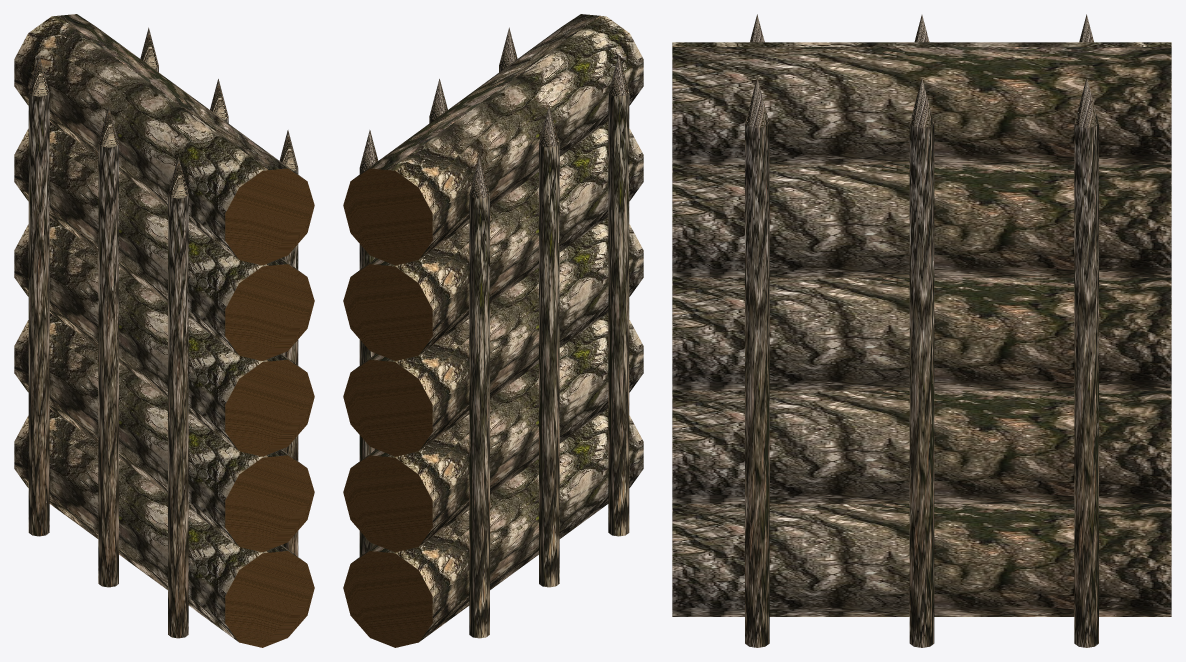
File: StrucWall.fbx
The picture shows the model from 3 angles, left to right: view 1: azimuth 30°, elevation 25°; view 2: azimuth 150°, elevation 25°; view 3: azimuth 270°, elevation 25°; orthographic projection. The views are drawn at different scales.
Parts seen in each view (by area): view 1: Log005, Log004, Log001, Log002, Log003, Post003, Post002, Post001, Side005, Side004, Side003, Side002 (+2 smaller); view 2: Log005, Log004, Log001, Log002, Log003, Post001, Post002, Post003, Side005, Side004, Side003, Side002 (+2 smaller); view 3: Log005, Log002, Log003, Log004, Log001, Post005, Post004, Post006.
Boxes of the visible parts, x1,y1,x2,y2 form: Log005: [14, 14, 304, 259]; Log004: [14, 121, 303, 354]; Log001: [14, 408, 305, 641]; Log002: [14, 313, 303, 546]; Log003: [14, 217, 304, 450]; Post003: [28, 54, 49, 536]; Post002: [98, 105, 118, 587]; Post001: [168, 156, 188, 638]; Side005: [225, 168, 314, 265]; Side004: [225, 264, 314, 360]; Side003: [225, 359, 314, 456]; Side002: [225, 455, 314, 552]; Log005: [353, 14, 643, 259]; Log004: [354, 121, 643, 354]; Log001: [352, 408, 643, 641]; Log002: [354, 313, 643, 546]; Log003: [353, 217, 643, 450]; Post001: [608, 54, 629, 536]; Post002: [539, 105, 559, 587]; Post003: [469, 156, 489, 638]; Side005: [343, 168, 432, 265]; Side004: [343, 264, 432, 360]; Side003: [343, 359, 432, 456]; Side002: [343, 455, 432, 552]; Log005: [672, 42, 1171, 164]; Log002: [672, 390, 1171, 503]; Log003: [672, 277, 1171, 390]; Log004: [672, 164, 1171, 277]; Log001: [672, 504, 1171, 616]; Post005: [909, 78, 934, 647]; Post004: [745, 78, 769, 647]; Post006: [1074, 78, 1098, 647].
Size of the model in its own units: 34.85 by 125 by 100.
2 materials, 2 textured.
